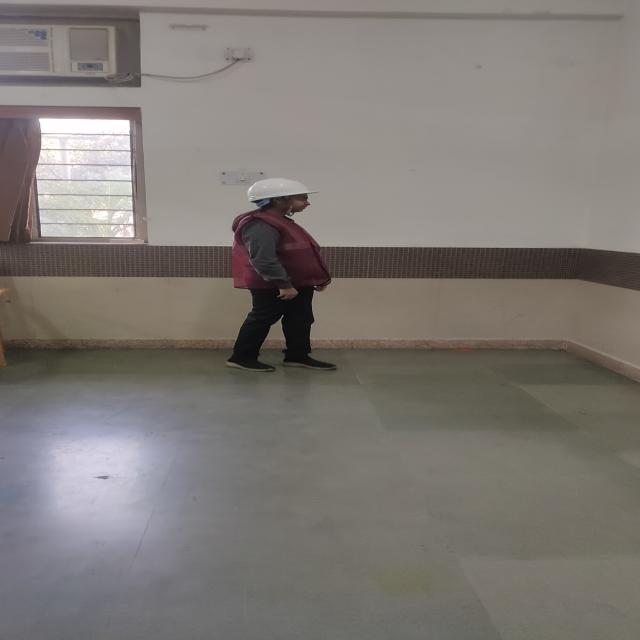safe: (228, 177, 337, 372)
